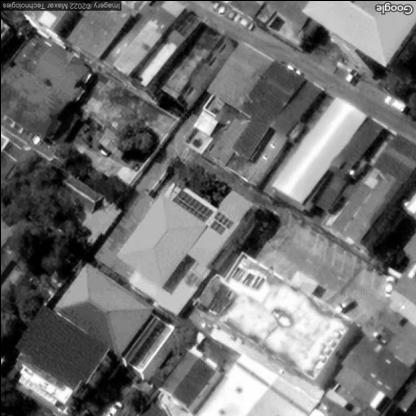solar-pv-panel: (171, 189, 212, 221), (208, 210, 233, 234)
